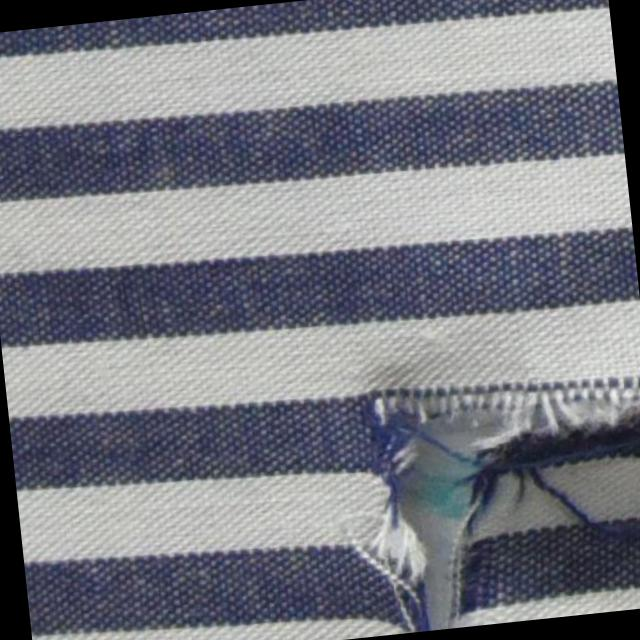cut: (352, 354, 640, 503), (372, 480, 498, 630)
